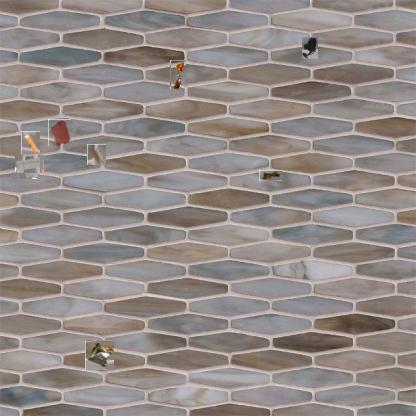dirty: (85, 340, 114, 370), (17, 152, 41, 176), (170, 60, 186, 90), (86, 144, 107, 165), (21, 131, 40, 154), (259, 170, 282, 181)
liquid: (48, 119, 71, 146), (302, 37, 318, 59)
